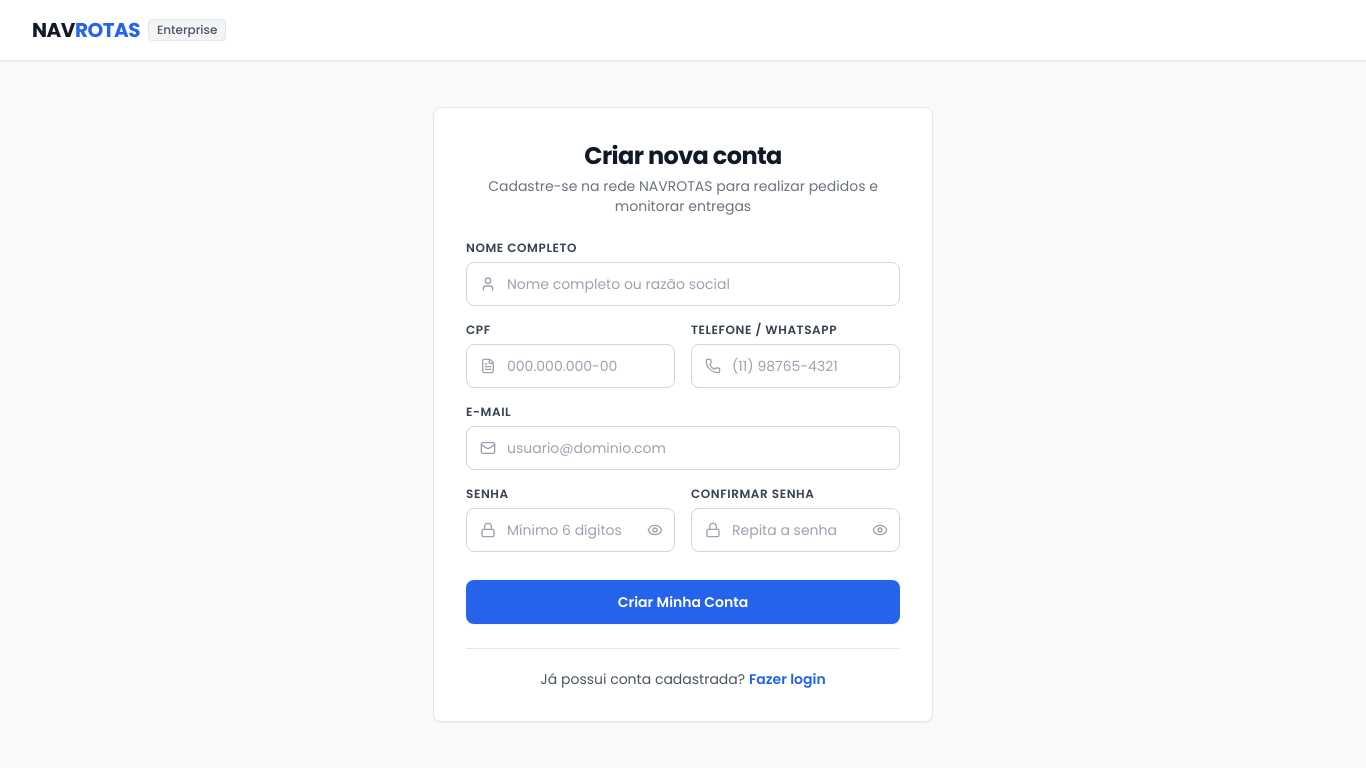
RegisterPage › displays error when passwords do not match
The width and height of the screenshot is (1366, 768).
Type "João Silva" into the field with placeholder "Nome completo ou razão social" at (683, 284), box [466,262,900,306]
Type "52998224725" into the field with placeholder "000.000.000-00" at (570, 366), box [466,344,675,388]
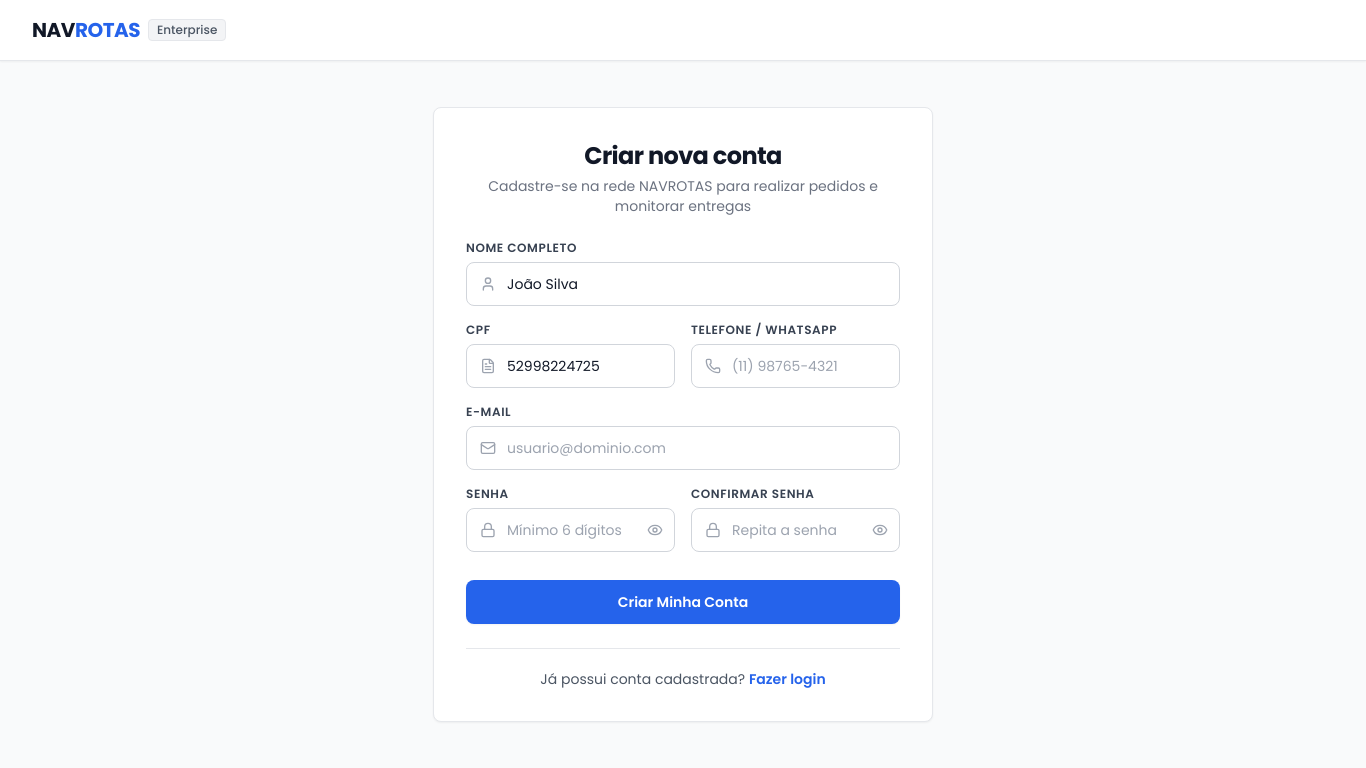
Type "11999998888" into the field with placeholder "(11) 98765-4321" at (796, 366), box [691,344,900,388]
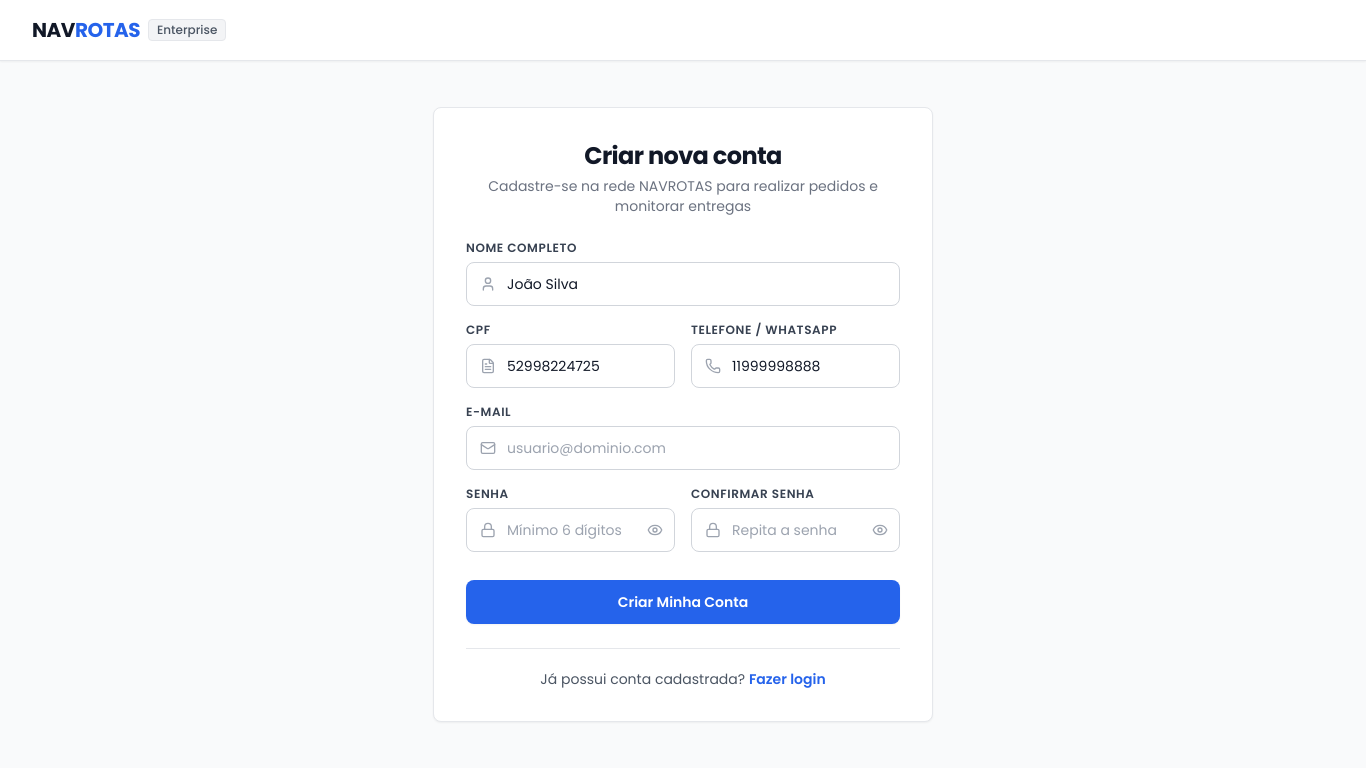
Type "joao@empresa.com" into the field with placeholder "usuario@dominio.com" at (683, 448), box [466,426,900,470]
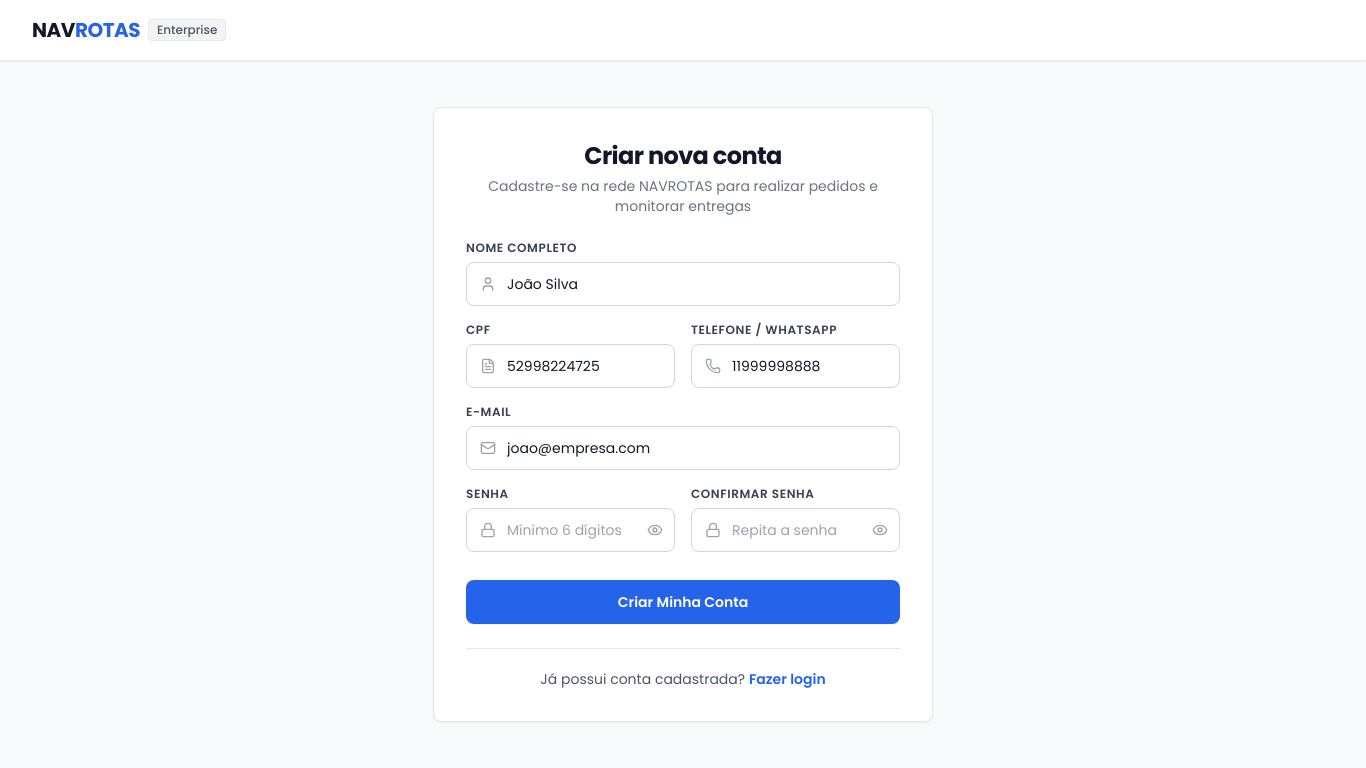
Type "123456" into the password field with placeholder "Mínimo 6 dígitos" at (570, 530), box [466,508,675,552]
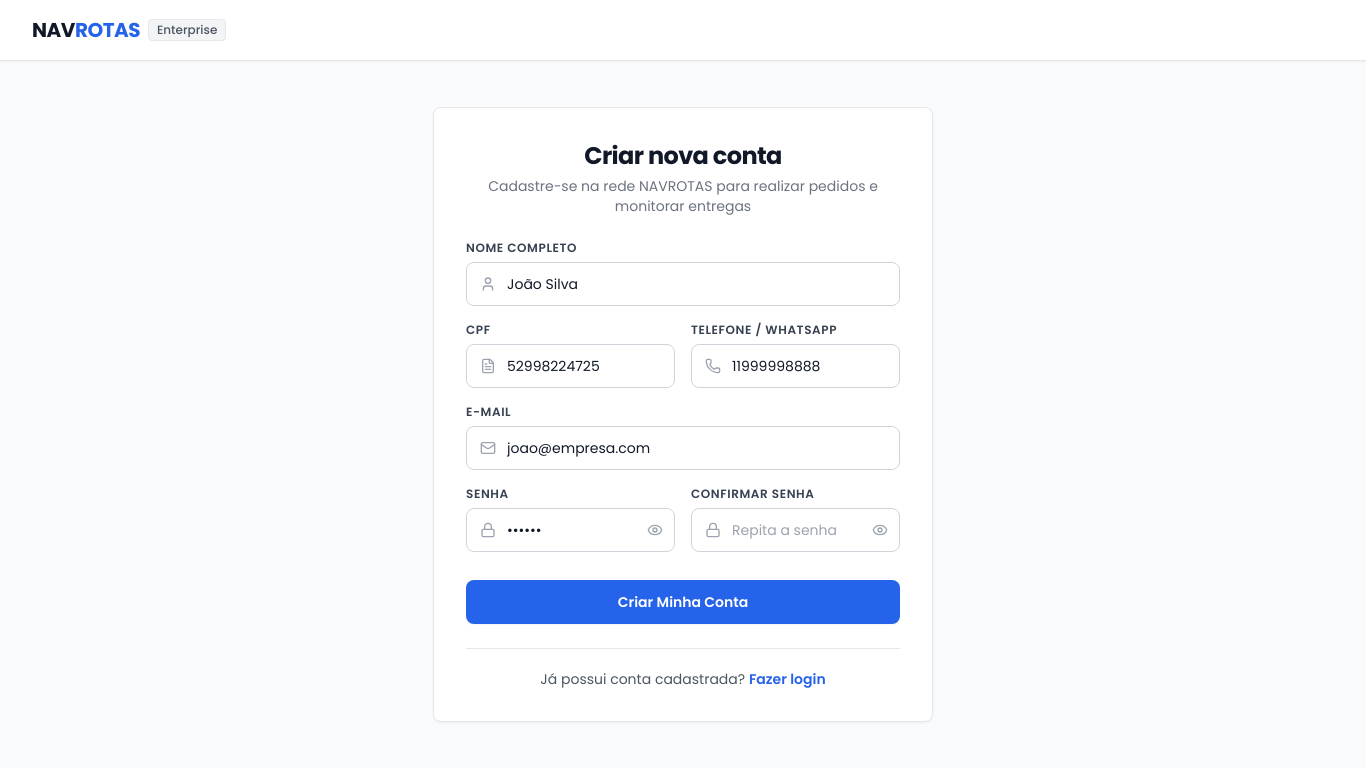
Type "654321" into the password field with placeholder "Repita a senha" at (796, 530), box [691,508,900,552]
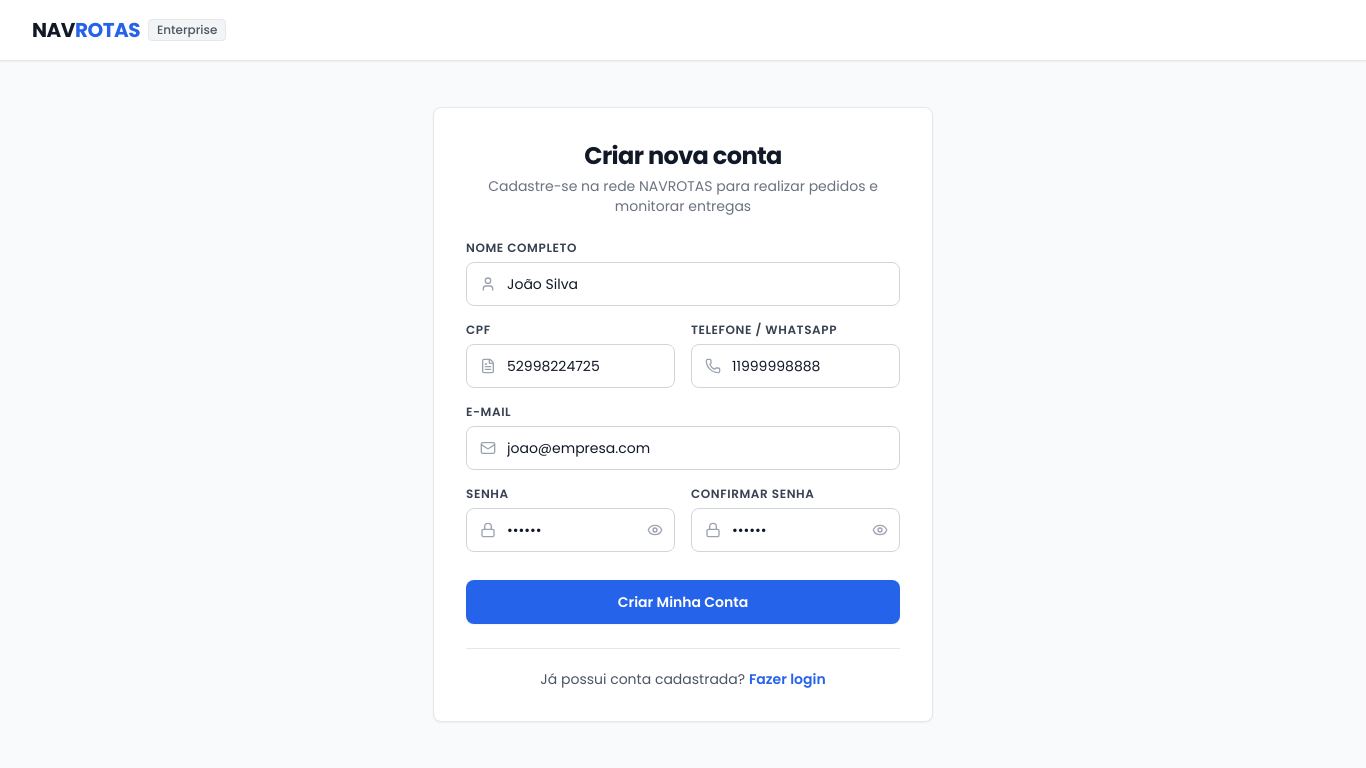
Click the button "Criar Minha Conta" at (683, 602), box [466,580,900,624]
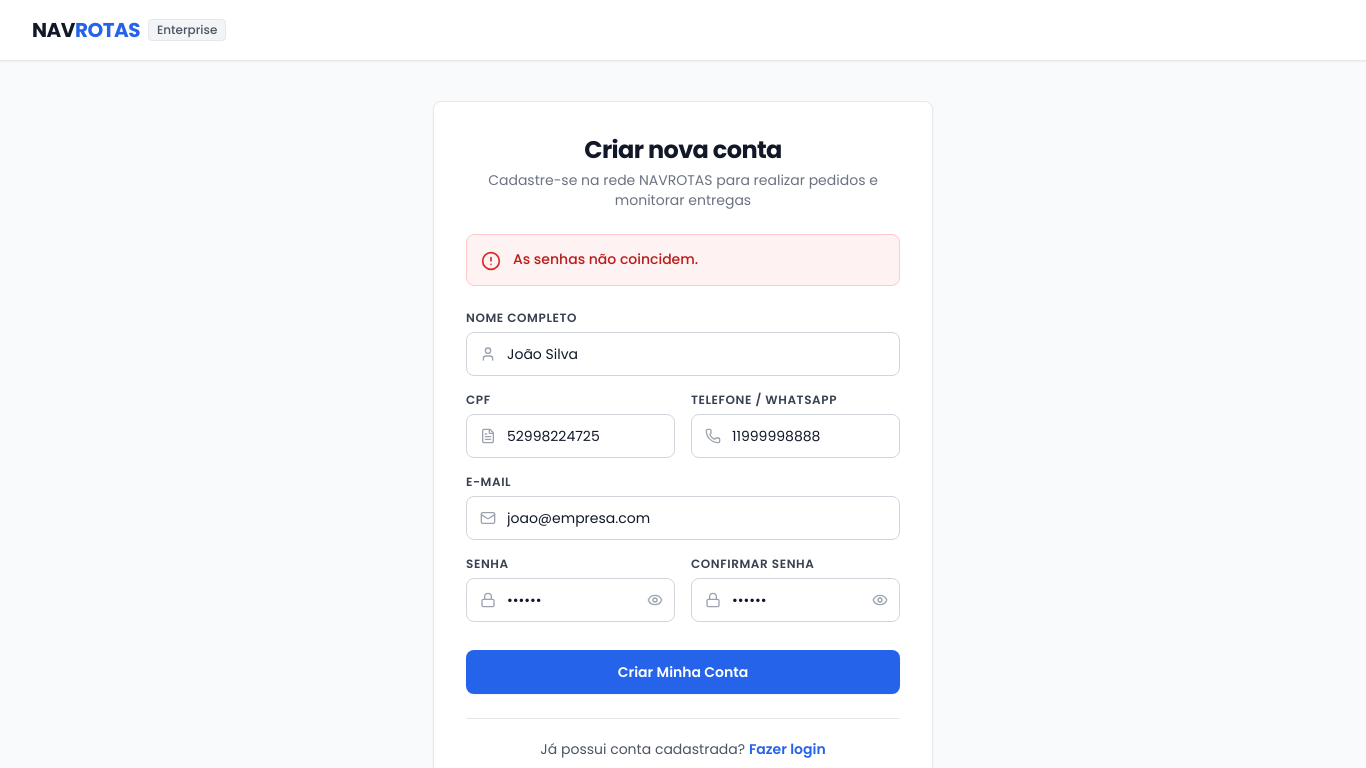
Check: the message with test id "register-error-alert" reads "As senhas não coincidem.", box [513,249,698,269]
